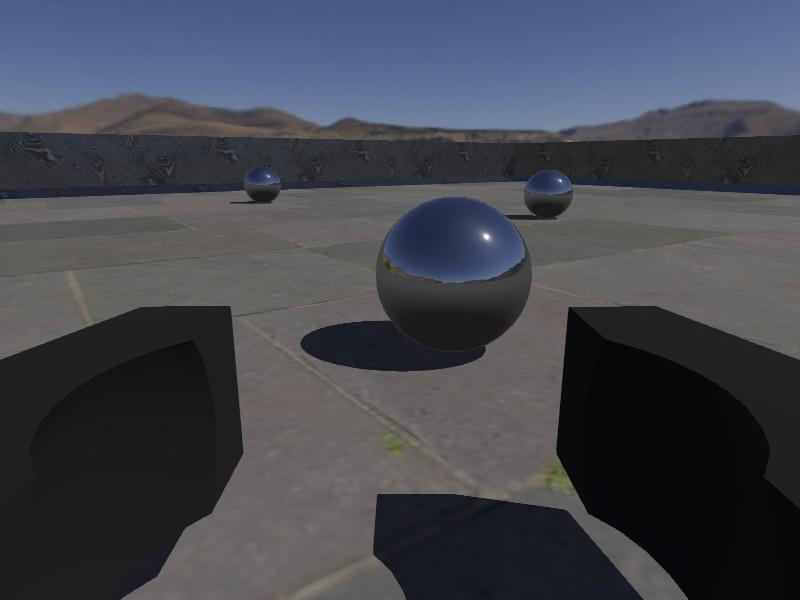steel ball: (375, 195, 533, 354), (524, 168, 575, 218), (244, 165, 281, 205)
